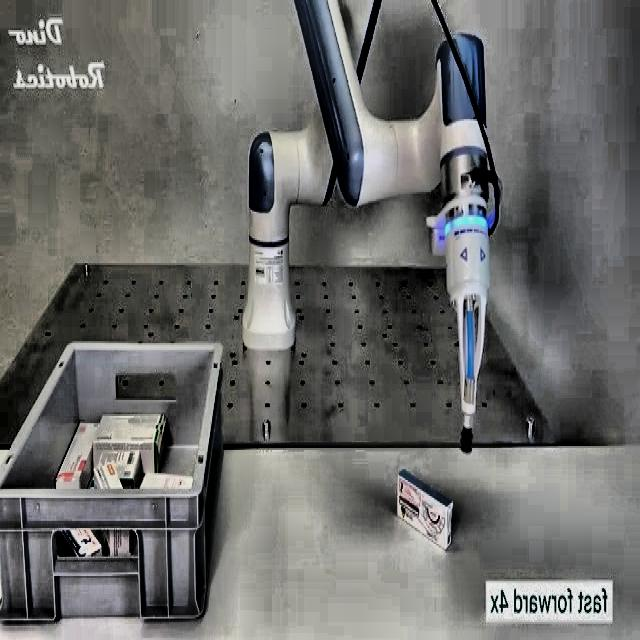robot: (242, 0, 502, 452)
